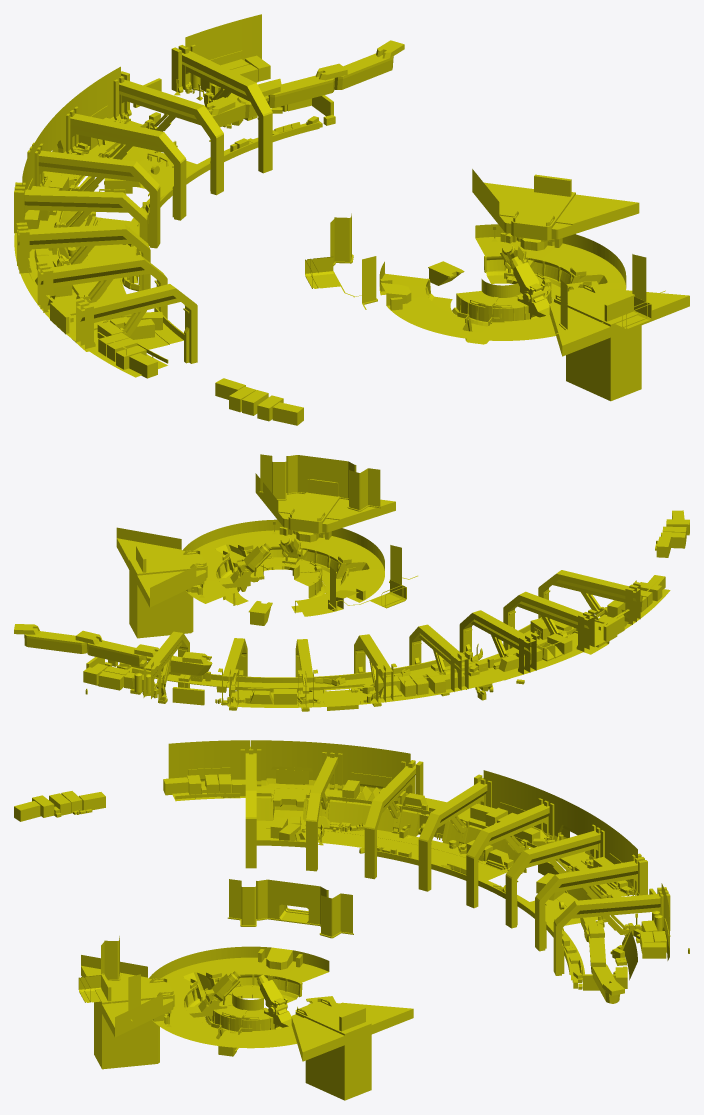
File: reactor.collision.gltf
3 views of the same model, one above another, from view 1: azimuth 30°, elevation 25°; view 2: azimuth 150°, elevation 25°; view 3: azimuth 270°, elevation 25° (orthographic). The views are drawn at different scales.
Parts seen in each view (by area): view 1: FLOOR_120_ReactorEntrancePlatform.003-colonly.002, FLOOR_120_ReactorEntrancePlatform.003-colonly.001, hall_circ1125_column1-colonly.008, hall_circ1125_column1-colonly.002, hall_circ1125_column1-colonly.001, hall_circ1125_column1-colonly.003, hall_circ1125_column1-colonly.004, hall_circ1125_column1-colonly.006, FLOOR_reactorcore_outerrim_A-colonly.003, hall_circ1125_column1-colonly.005, hall_circ1125_column1-colonly.007, reactor_120_exteriorwall_doorInsetHallAndWall-colonly.001 (+13 smaller); view 2: FLOOR_120_ReactorEntrancePlatform.003-colonly.001, reactor_120_exteriorwall_doorInsetHallAndWall-colonly.002, FLOOR_120_ReactorEntrancePlatform.003-colonly.002, hall_circ1125_column1-colonly.008, hall_circ1125_column1-colonly.007, FLOOR_reactorcore_outerrim_A-colonly.005, FLOOR_reactorcore_outerrim_A-colonly.002, FLOOR_reactorcore_outerrim_A-colonly.004, hall_circ1125_column1-colonly.006, hall_circ1125_column1-colonly.005, hall_circ1125_column1-colonly.001, hall_circ1125_column1-colonly.004 (+23 smaller); view 3: FLOOR_120_ReactorEntrancePlatform.003-colonly.001, FLOOR_120_ReactorEntrancePlatform.003-colonly.002, reactor_120_exteriorwall_doorInsetHallAndWall-colonly.001, FLOOR_reactorcore_outerrim_A-colonly.001, hall_circ1125_column1-colonly.002, hall_circ1125_column1-colonly.001, hall_circ1125_column1-colonly.003, hall_circ1125_column1-colonly.004, road-colonly.014, hall_circ1125_column1-colonly.005, FLOOR_reactorcore_outerrim_A-colonly.004, hall_circ1125_upperdeckwall_1doorinset-colonly.002 (+19 smaller).
Part boxes in pixels (box(x1,y1,x2,y2)): FLOOR_120_ReactorEntrancePlatform.003-colonly.002: box(549, 284, 689, 401); FLOOR_120_ReactorEntrancePlatform.003-colonly.001: box(472, 169, 639, 245); hall_circ1125_column1-colonly.008: box(74, 284, 197, 363); hall_circ1125_column1-colonly.002: box(113, 71, 223, 195); hall_circ1125_column1-colonly.001: box(171, 44, 272, 173); hall_circ1125_column1-colonly.003: box(66, 106, 186, 220); hall_circ1125_column1-colonly.004: box(27, 142, 160, 248); hall_circ1125_column1-colonly.006: box(16, 222, 150, 290); FLOOR_reactorcore_outerrim_A-colonly.003: box(475, 224, 592, 286); hall_circ1125_column1-colonly.005: box(14, 182, 147, 255); hall_circ1125_column1-colonly.007: box(36, 255, 167, 318); reactor_120_exteriorwall_doorInsetHallAndWall-colonly.001: box(305, 213, 377, 309); FLOOR_120_ReactorEntrancePlatform.003-colonly.001: box(116, 527, 207, 638); reactor_120_exteriorwall_doorInsetHallAndWall-colonly.002: box(258, 454, 380, 511); FLOOR_120_ReactorEntrancePlatform.003-colonly.002: box(255, 473, 395, 575); hall_circ1125_column1-colonly.008: box(538, 570, 642, 624); hall_circ1125_column1-colonly.007: box(503, 591, 596, 651); FLOOR_reactorcore_outerrim_A-colonly.005: box(182, 521, 270, 578); FLOOR_reactorcore_outerrim_A-colonly.002: box(258, 519, 357, 571); FLOOR_reactorcore_outerrim_A-colonly.004: box(322, 534, 384, 593); hall_circ1125_column1-colonly.006: box(459, 610, 539, 680); hall_circ1125_column1-colonly.005: box(409, 624, 471, 696); hall_circ1125_column1-colonly.001: box(140, 631, 189, 703); hall_circ1125_column1-colonly.004: box(354, 634, 396, 706); FLOOR_120_ReactorEntrancePlatform.003-colonly.001: box(291, 998, 413, 1100); FLOOR_120_ReactorEntrancePlatform.003-colonly.002: box(81, 955, 174, 1069); reactor_120_exteriorwall_doorInsetHallAndWall-colonly.001: box(227, 879, 353, 938); FLOOR_reactorcore_outerrim_A-colonly.001: box(227, 946, 329, 1002); hall_circ1125_column1-colonly.002: box(535, 853, 647, 951); hall_circ1125_column1-colonly.001: box(553, 887, 670, 975); hall_circ1125_column1-colonly.003: box(505, 824, 604, 928); hall_circ1125_column1-colonly.004: box(466, 798, 554, 908); road-colonly.014: box(168, 740, 250, 786); hall_circ1125_column1-colonly.005: box(418, 774, 491, 891); FLOOR_reactorcore_outerrim_A-colonly.004: box(149, 948, 240, 1006); hall_circ1125_upperdeckwall_1doorinset-colonly.002: box(251, 740, 332, 788).
Size of what is drawn, in the model's own units: 147 by 35.46 by 168.
